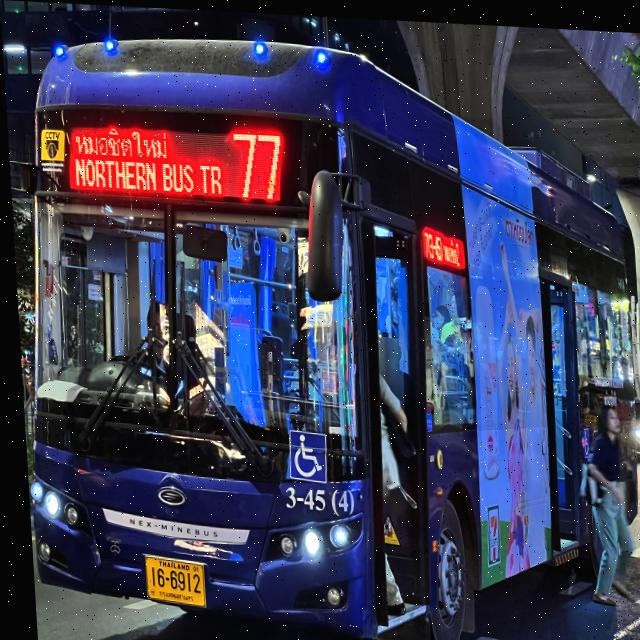Bus Line Number: (223, 120, 288, 206)
Bus Side Number: (273, 479, 350, 514)
Destination Sign: (67, 121, 225, 201)
TSB-Bus: (1, 18, 640, 640)
